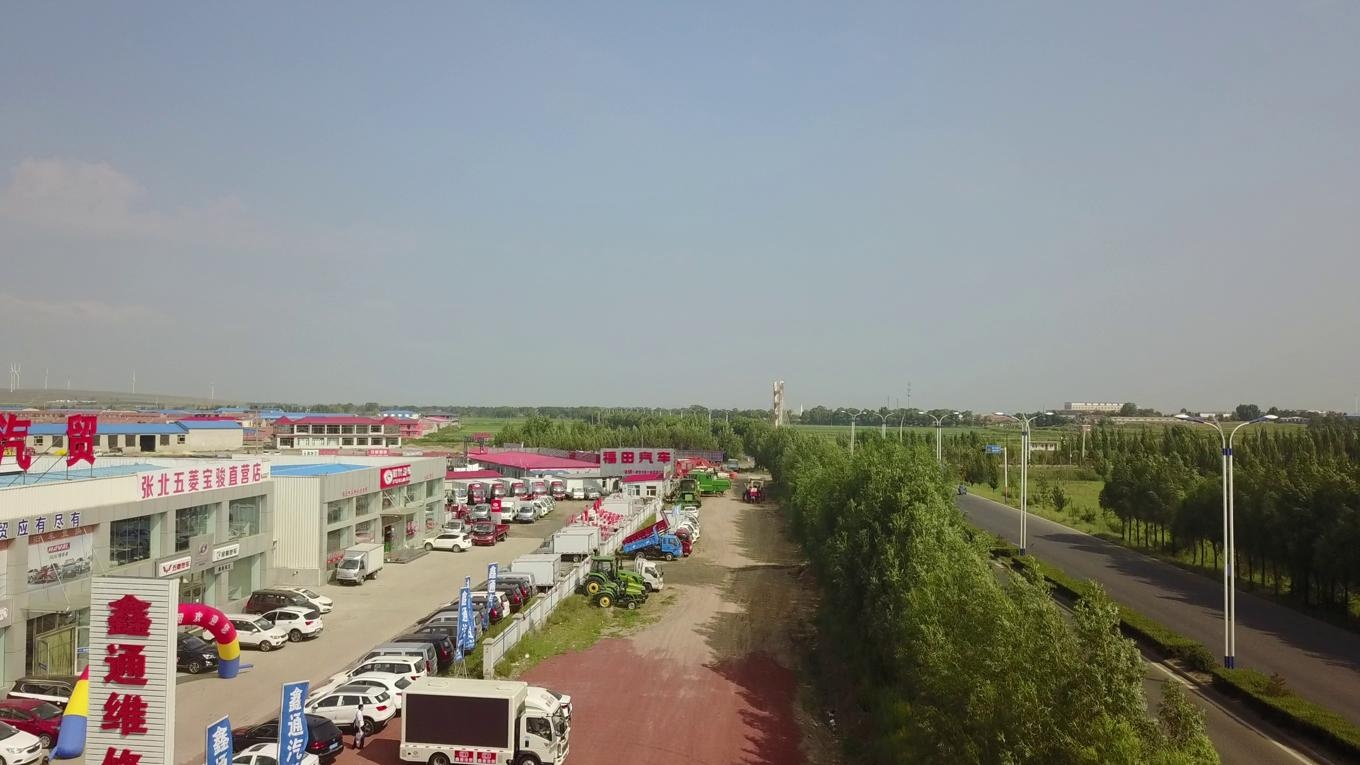car: (292, 683, 396, 734), (481, 682, 573, 721), (210, 738, 322, 765), (255, 605, 325, 643), (264, 583, 333, 614), (418, 532, 470, 553), (526, 496, 557, 509), (684, 505, 698, 518)
ignored regions: (663, 440, 739, 506), (601, 484, 630, 532), (568, 497, 602, 525)
others: (584, 553, 647, 601), (596, 574, 644, 613), (743, 474, 768, 507)
pedestrian: (351, 705, 364, 748)
truck: (399, 674, 570, 764), (424, 687, 565, 757), (621, 510, 692, 555), (600, 555, 663, 593), (623, 524, 682, 561), (333, 542, 383, 585), (497, 558, 556, 591), (538, 532, 594, 561), (546, 525, 601, 551), (508, 553, 563, 578), (649, 509, 702, 533), (472, 520, 512, 548), (649, 523, 695, 543), (451, 479, 486, 504), (475, 477, 507, 503), (494, 476, 527, 500), (656, 521, 700, 538), (443, 504, 476, 523), (540, 475, 565, 500), (495, 496, 521, 520), (520, 476, 546, 499), (656, 510, 698, 524), (442, 519, 475, 536), (513, 499, 548, 515), (520, 496, 552, 510), (517, 499, 551, 512), (445, 487, 468, 504), (518, 506, 542, 521), (473, 503, 491, 521), (563, 486, 586, 500), (583, 484, 600, 499)
van: (5, 671, 105, 723), (308, 672, 411, 714), (325, 657, 424, 695), (0, 699, 73, 750), (343, 643, 438, 682), (374, 632, 458, 672), (203, 613, 289, 652), (144, 632, 220, 674), (244, 586, 321, 624), (399, 621, 475, 653), (409, 612, 485, 640), (433, 595, 503, 625), (420, 602, 488, 632), (465, 582, 525, 612), (444, 593, 509, 618), (477, 577, 531, 604), (480, 572, 538, 596)
